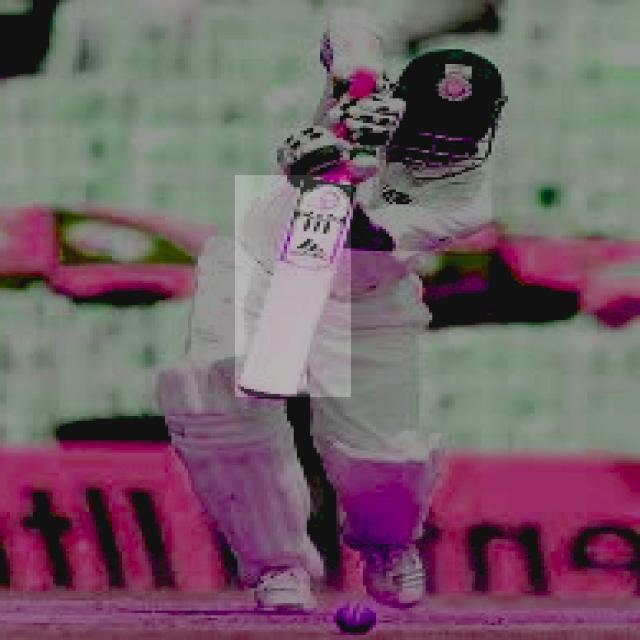bat: (234, 176, 352, 397)
toe: (229, 384, 311, 406)
